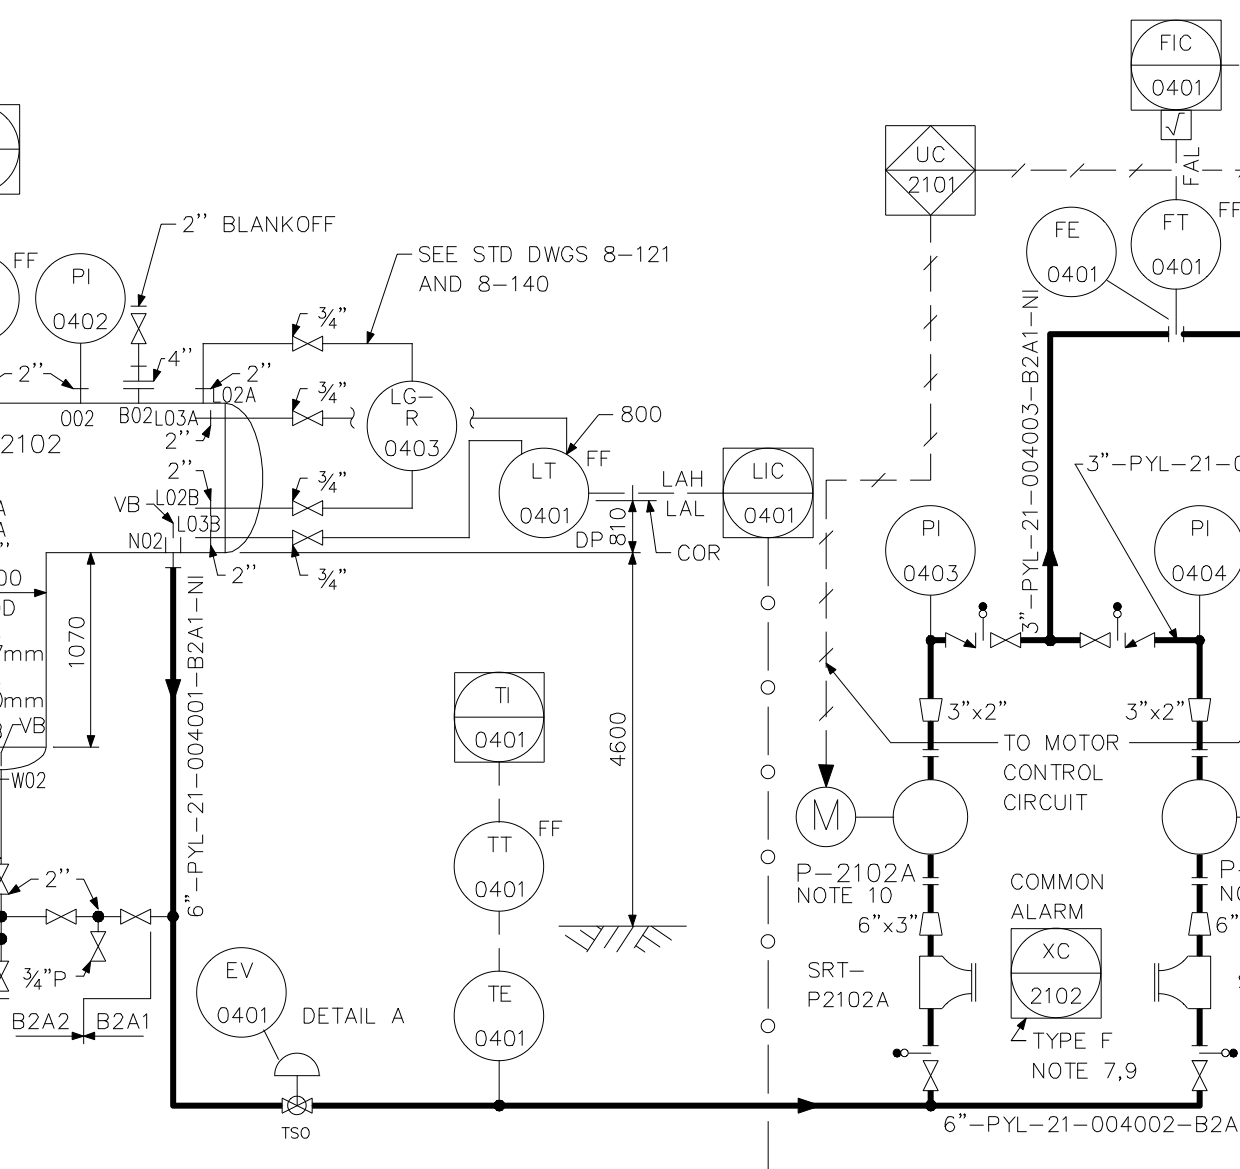Check Valve: (1122, 630, 1165, 655), (940, 627, 982, 653)
Spetacle Blind: (890, 1038, 946, 1066), (1184, 1037, 1240, 1065), (1107, 597, 1132, 656), (974, 598, 996, 656)
